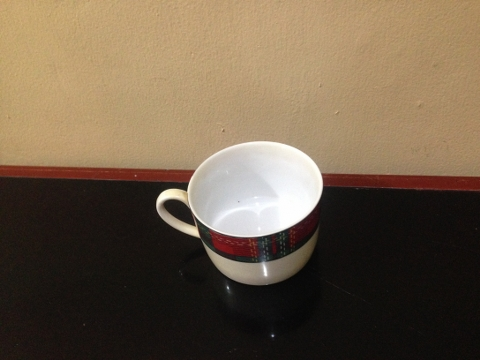tempat minum: (156, 141, 323, 286)
